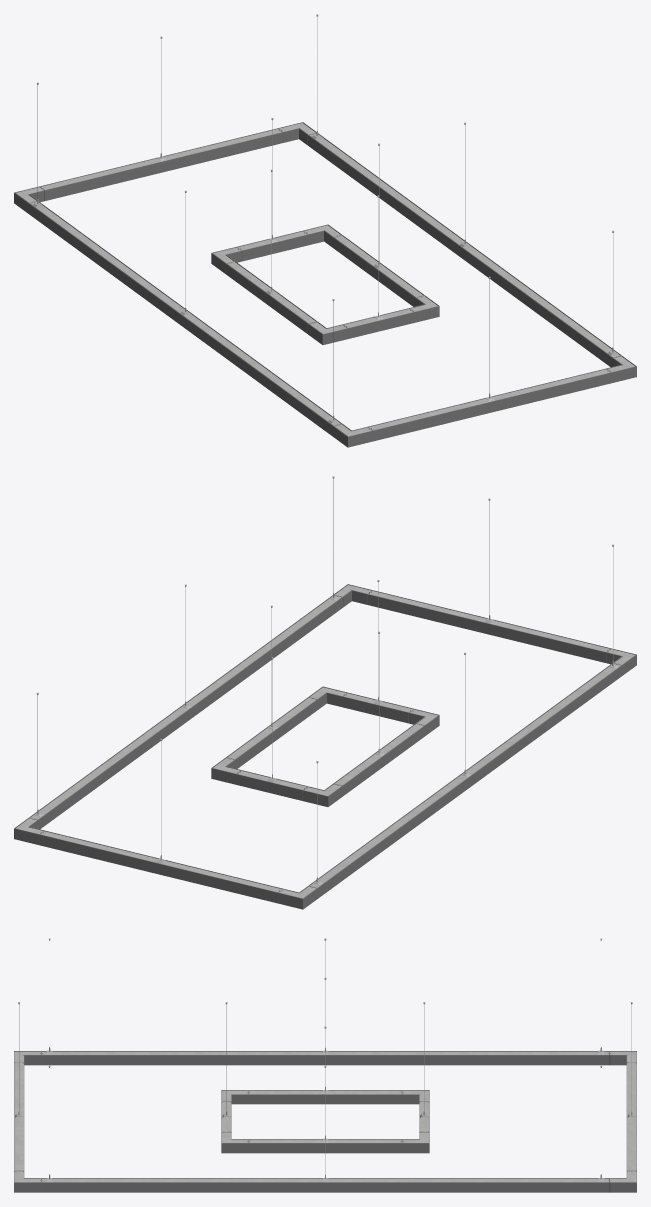
File: lighting_overheadLed_rectangularFrame_a01.glb
3 views of the same model, one above another, from view 1: azimuth 30°, elevation 25°; view 2: azimuth 150°, elevation 25°; view 3: azimuth 270°, elevation 25° (orthographic). The views are drawn at different scales.
Parts seen in each view (by area): view 1: body_01_mesh_00; view 2: body_01_mesh_00; view 3: body_01_mesh_00.
Part boxes in pixels (left/top/right/bottom): body_01_mesh_00: left=14, top=14, right=636, bottom=447; body_01_mesh_00: left=14, top=476, right=636, bottom=909; body_01_mesh_00: left=14, top=938, right=636, bottom=1192.
Size of the model in its own units: 2.4 by 1.06 by 4.8.
4 materials, 3 textured.
